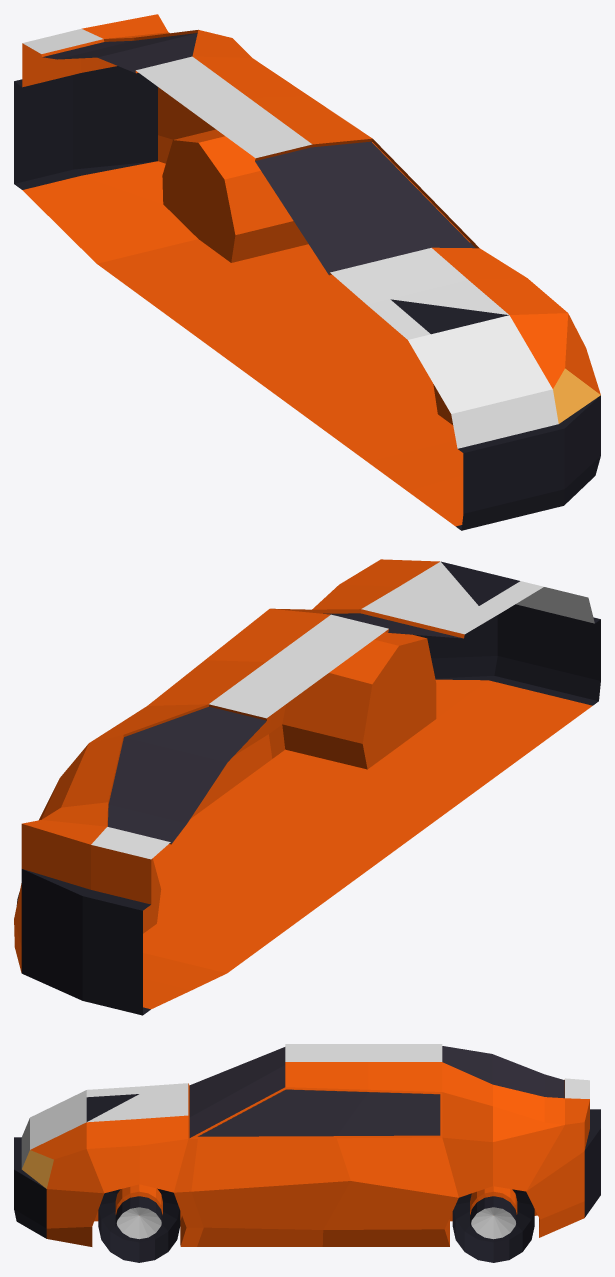
Rendered from Auto.glb.
3 views of the same model, one above another, from view 1: azimuth 30°, elevation 25°; view 2: azimuth 150°, elevation 25°; view 3: azimuth 270°, elevation 25° (orthographic). The views are drawn at different scales.
Parts seen in each view (by area): view 1: Cube; view 2: Cube; view 3: Cube.
Part boxes in pixels (left/top/right/bottom): Cube: left=14, top=14, right=600, bottom=530; Cube: left=14, top=559, right=600, bottom=1015; Cube: left=14, top=1044, right=600, bottom=1262.
Size of the model in its own units: 1.24 by 1.54 by 5.02.
